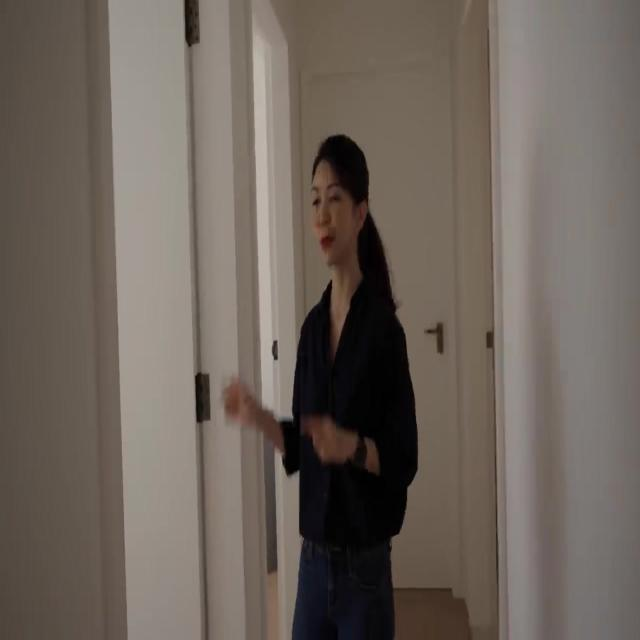door: (306, 69, 454, 595)
person: (222, 133, 418, 639)
